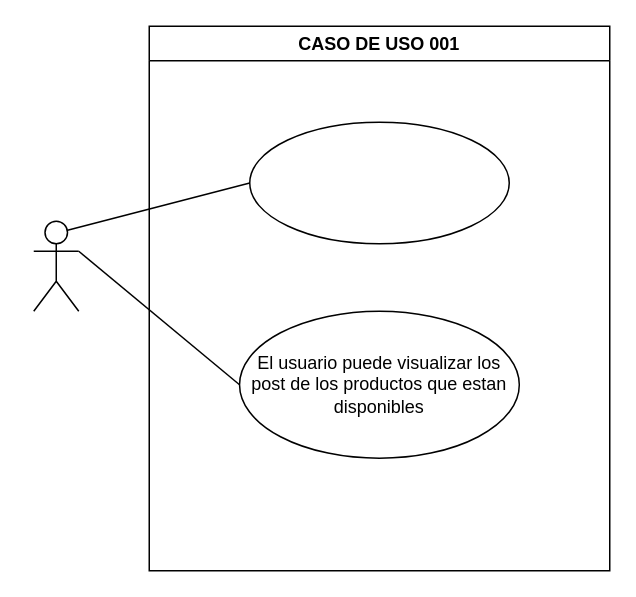
Image size: 636x597. Some labels were removed from this diagram. Each missing label, with the centre of its shape:
"Usuario" goes at (55,265).
"Usuario abre el website en su navegador web." goes at (378,182).
